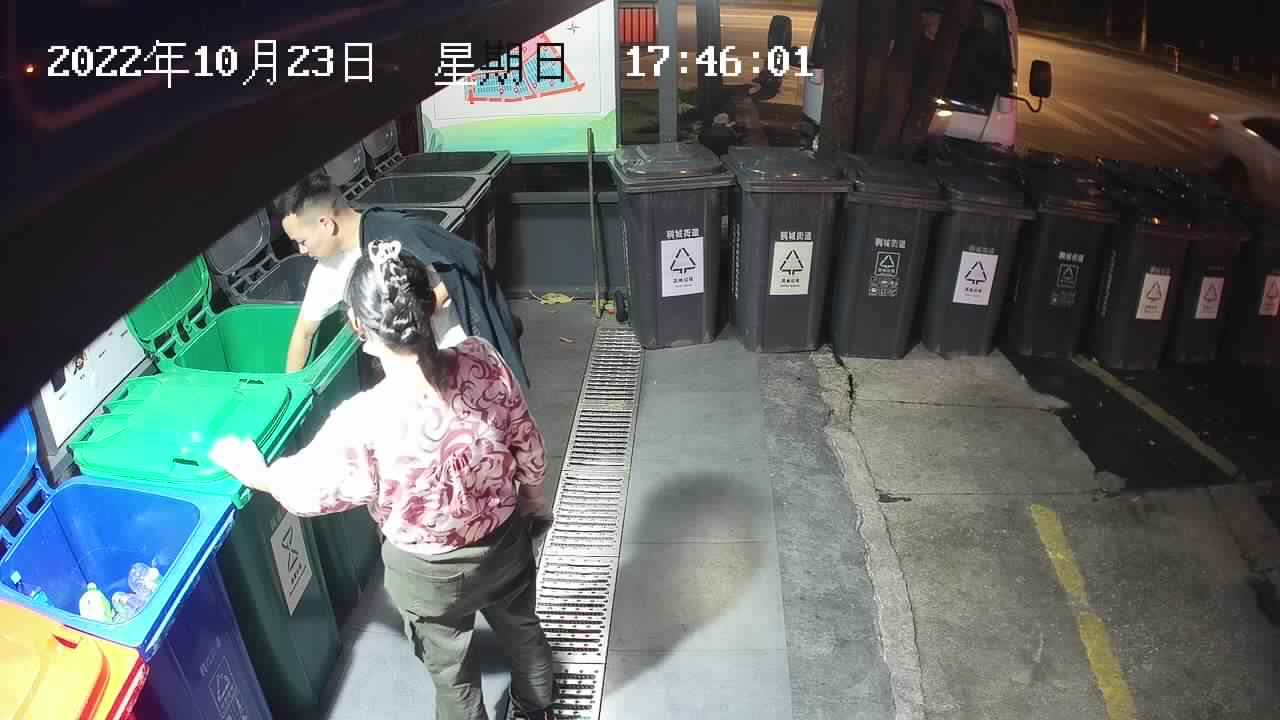person: (206, 175, 558, 720)
